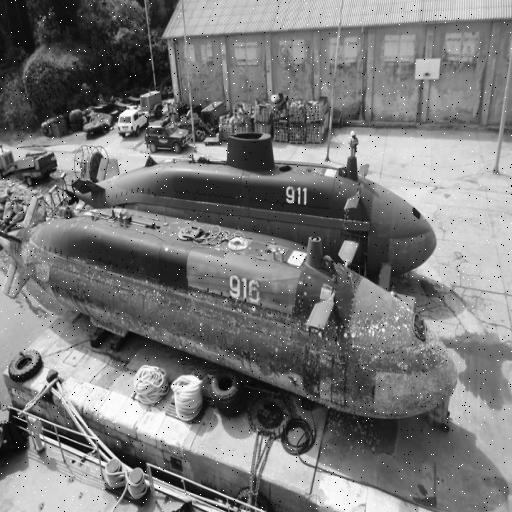submarine: (1, 208, 458, 432), (60, 135, 429, 282)
